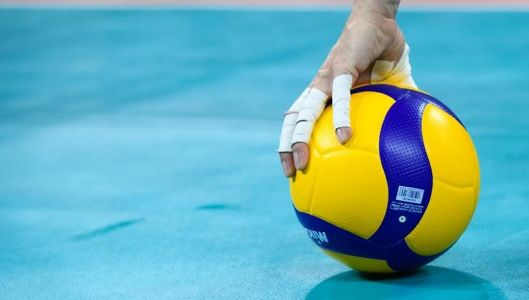voleibol: (289, 83, 480, 274)
